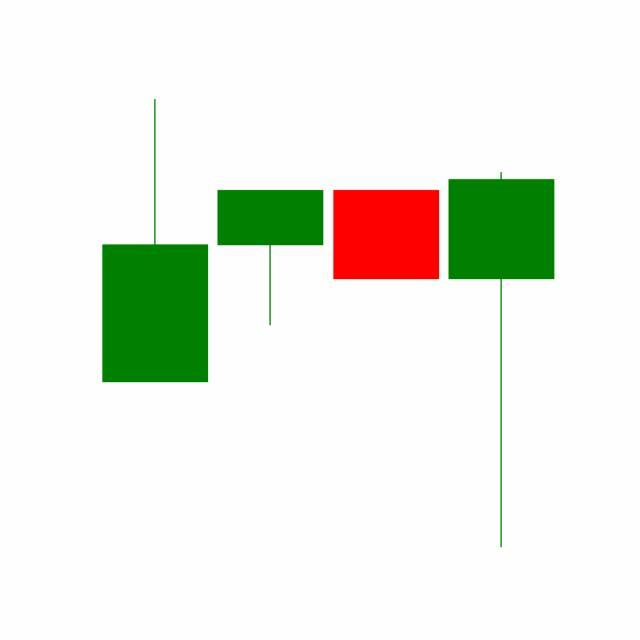Hammer: (444, 169, 560, 553)
